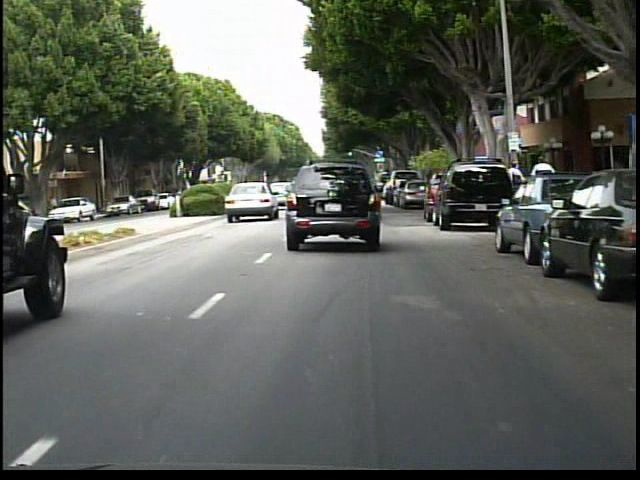person: (527, 152, 557, 218), (502, 159, 526, 214), (47, 191, 66, 224)
